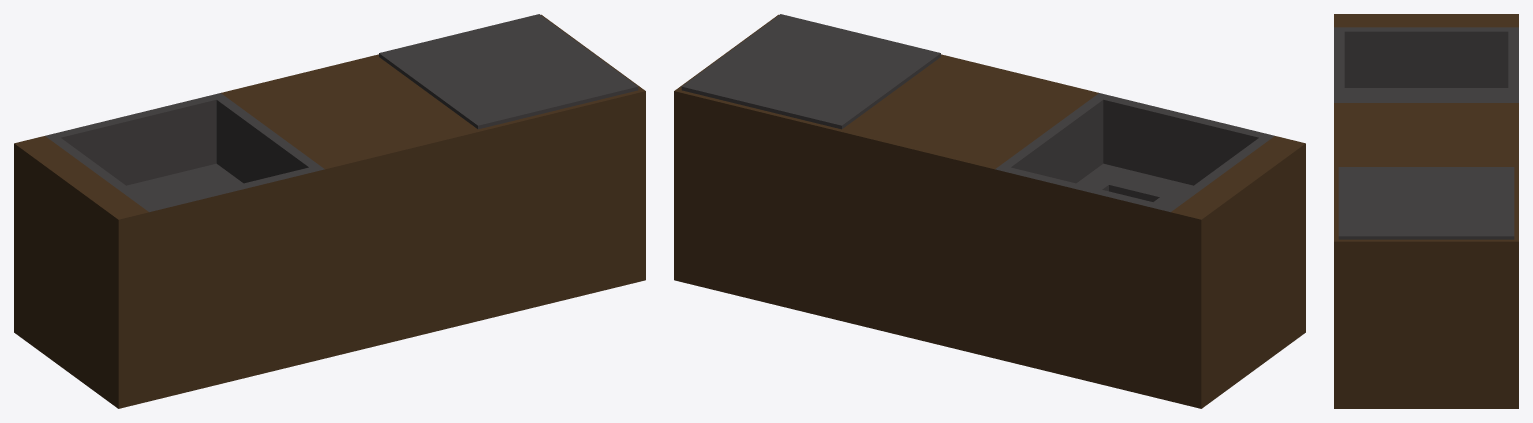
Rendered from mod3.fbx.
3 views of the same model, side by side, from view 1: azimuth 30°, elevation 25°; view 2: azimuth 150°, elevation 25°; view 3: azimuth 270°, elevation 25° (orthographic). The views are drawn at different scales.
Visible parts, largest first — view 1: Stove1; view 2: Stove1; view 3: Stove1.
Part boxes in pixels (left/top/right/bottom): Stove1: left=14, top=14, right=645, bottom=408; Stove1: left=674, top=14, right=1305, bottom=408; Stove1: left=1334, top=14, right=1518, bottom=408.
Bounding box in the file's own units: 350 × 122 × 120.
